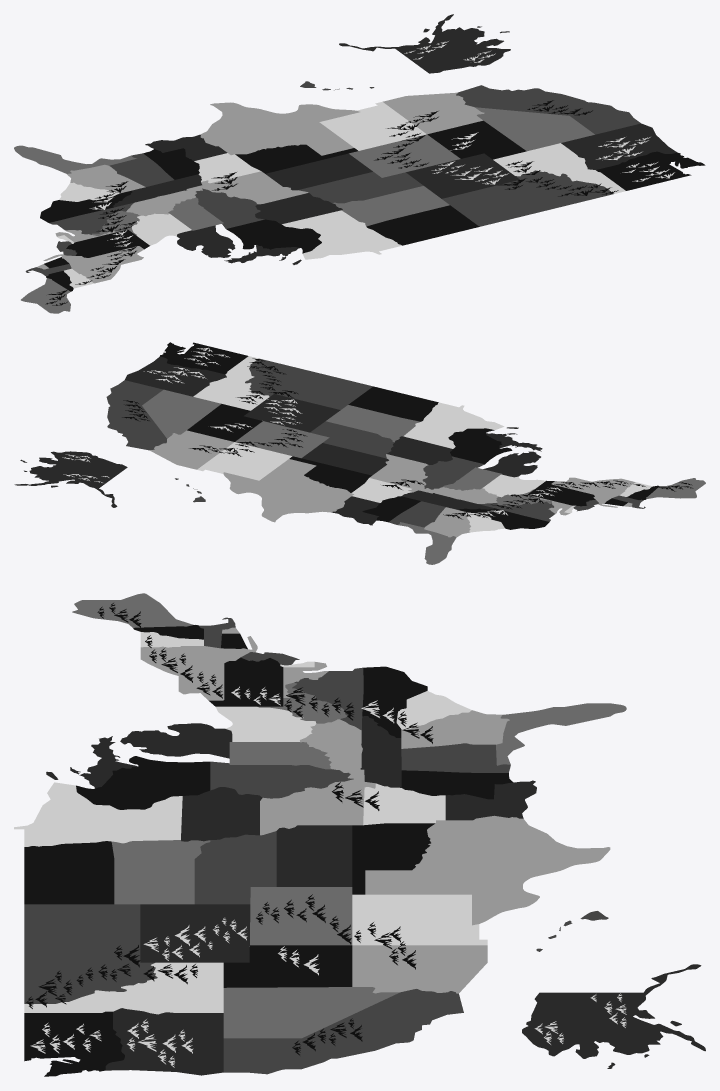
Rendered from US_States_2D_V2.fbx.
3 views of the same model, one above another, from view 1: azimuth 30°, elevation 25°; view 2: azimuth 150°, elevation 25°; view 3: azimuth 270°, elevation 25° (orthographic). The views are drawn at different scales.
Parts seen in each view (by area): view 1: Texas_2D_V2, Montana_2D_V2, US_Mountains_2D_V2, California_2D_V2, Alaska_2D_V2, Nevada_2D_V2, Minnesota_2D_V2, Oregon_2D_V2, Wyoming_2D_V2, New_Mexico_2D_V2, Colorado_2D_V2, Arizona_2D_V2 (+30 smaller); view 2: Texas_2D_V2, Montana_2D_V2, US_Mountains_2D_V2, California_2D_V2, Alaska_2D_V2, Nevada_2D_V2, Minnesota_2D_V2, Oregon_2D_V2, Wyoming_2D_V2, New_Mexico_2D_V2, Colorado_2D_V2, Arizona_2D_V2 (+30 smaller); view 3: Texas_2D_V2, Montana_2D_V2, California_2D_V2, US_Mountains_2D_V2, Alaska_2D_V2, Nevada_2D_V2, Minnesota_2D_V2, New_Mexico_2D_V2, Oregon_2D_V2, Wyoming_2D_V2, Colorado_2D_V2, Arizona_2D_V2 (+30 smaller).
Boxes of the visible parts, box(x1,y1,x2,y2) form: Texas_2D_V2: box(200, 102, 359, 155); Montana_2D_V2: box(442, 170, 613, 226); US_Mountains_2D_V2: box(45, 41, 674, 305); California_2D_V2: box(456, 85, 640, 134); Alaska_2D_V2: box(339, 14, 510, 73); Nevada_2D_V2: box(475, 107, 594, 151); Minnesota_2D_V2: box(282, 210, 401, 259); Oregon_2D_V2: box(561, 123, 677, 169); Wyoming_2D_V2: box(406, 153, 519, 198); New_Mexico_2D_V2: box(319, 101, 426, 150); Colorado_2D_V2: box(349, 134, 460, 177); Arizona_2D_V2: box(383, 92, 484, 134); Texas_2D_V2: box(223, 459, 353, 522); Montana_2D_V2: box(245, 358, 372, 409); US_Mountains_2D_V2: box(62, 347, 693, 519); California_2D_V2: box(106, 380, 166, 450); Alaska_2D_V2: box(14, 451, 127, 507); Nevada_2D_V2: box(142, 389, 221, 438); Minnesota_2D_V2: box(403, 402, 504, 448); Oregon_2D_V2: box(125, 356, 226, 396); Wyoming_2D_V2: box(244, 394, 340, 432); New_Mexico_2D_V2: box(197, 442, 292, 480); Colorado_2D_V2: box(235, 421, 329, 458); Arizona_2D_V2: box(149, 430, 234, 469); Texas_2D_V2: box(365, 815, 610, 925); Montana_2D_V2: box(24, 904, 157, 1003); California_2D_V2: box(223, 989, 463, 1074); US_Mountains_2D_V2: box(26, 603, 626, 1067); Alaska_2D_V2: box(522, 964, 705, 1068); Nevada_2D_V2: box(223, 987, 399, 1038); Minnesota_2D_V2: box(14, 782, 182, 846); New_Mexico_2D_V2: box(352, 894, 487, 945); Oregon_2D_V2: box(105, 1008, 223, 1075); Wyoming_2D_V2: box(140, 904, 250, 962); Colorado_2D_V2: box(250, 887, 352, 945); Arizona_2D_V2: box(352, 945, 487, 993).
Bounding box in the file's own units: 922 × 0.2 × 558.
